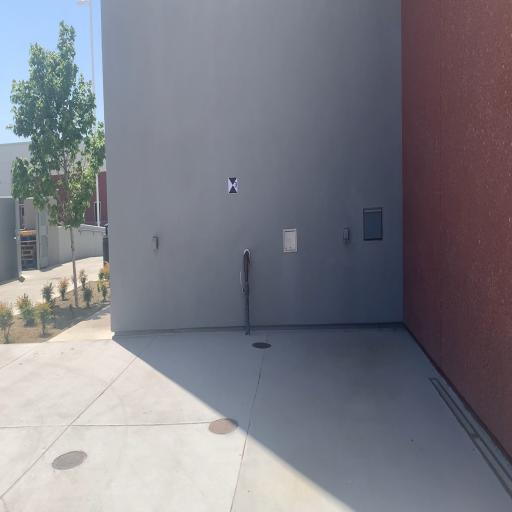target3: (228, 177, 238, 194)
